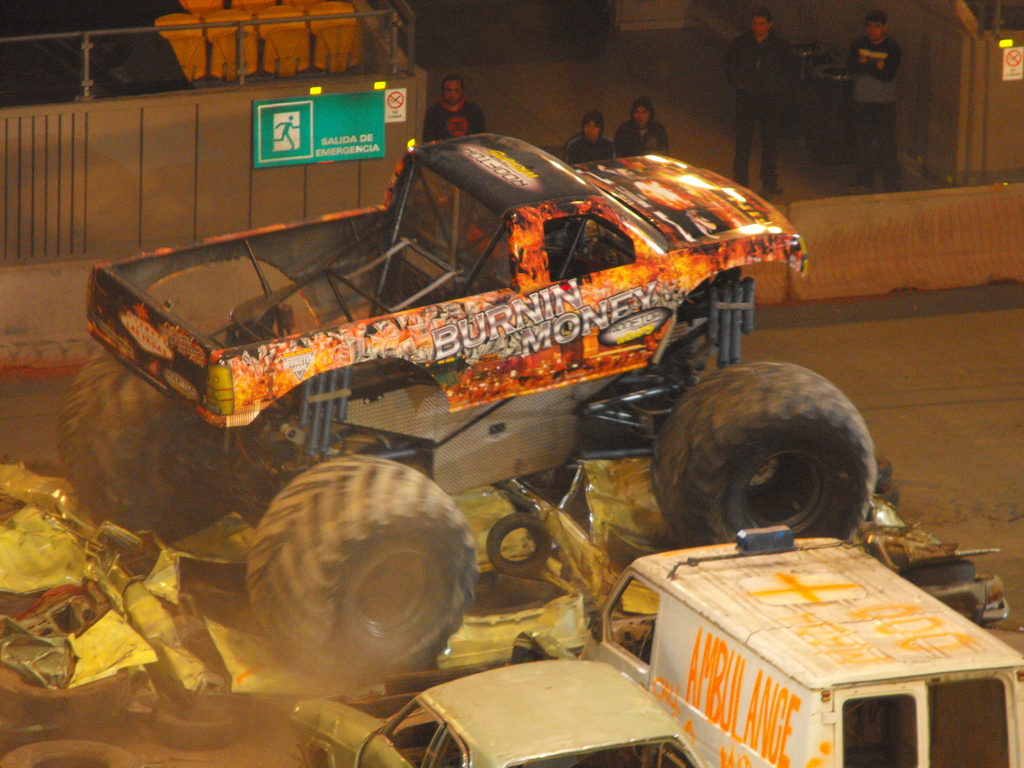person: (420, 73, 490, 144)
